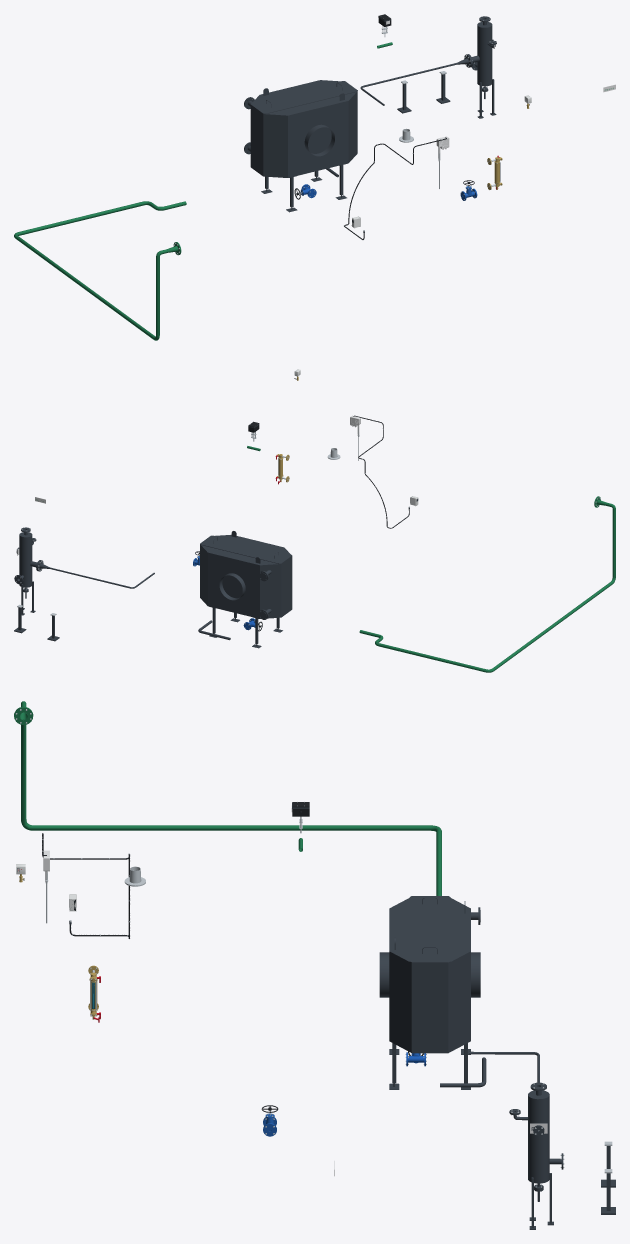
The picture shows the model from 3 angles, top to bottom: view 1: azimuth 30°, elevation 25°; view 2: azimuth 150°, elevation 25°; view 3: azimuth 270°, elevation 25°; orthographic projection. The views are drawn at different scales.
Parts seen in each view (by area): view 1: EQS2-3000 CAD 0, EQS2-3000 CAD 3, deaerator_feed / green, EQS2-3000 CAD 1, separator_fv8 / dark; view 2: EQS2-3000 CAD 0, EQS2-3000 CAD 3, deaerator_feed / green, EQS2-3000 CAD 2, separator_fv8 / dark; view 3: EQS2-3000 CAD 3, deaerator_feed / green, separator_fv8 / dark, EQS2-3000 CAD 0.
Part boxes in pixels (bbox=[...]): EQS2-3000 CAD 0: bbox=[261, 101, 348, 212]; EQS2-3000 CAD 3: bbox=[250, 80, 357, 175]; deaerator_feed / green: bbox=[14, 201, 186, 340]; EQS2-3000 CAD 1: bbox=[263, 114, 287, 177]; separator_fv8 / dark: bbox=[468, 16, 496, 118]; EQS2-3000 CAD 0: bbox=[208, 552, 282, 648]; EQS2-3000 CAD 3: bbox=[200, 531, 292, 617]; deaerator_feed / green: bbox=[359, 496, 615, 672]; EQS2-3000 CAD 2: bbox=[258, 564, 281, 619]; separator_fv8 / dark: bbox=[14, 527, 40, 615]; EQS2-3000 CAD 3: bbox=[389, 896, 470, 1053]; deaerator_feed / green: bbox=[14, 701, 441, 895]; separator_fv8 / dark: bbox=[509, 1082, 563, 1229]; EQS2-3000 CAD 0: bbox=[379, 952, 480, 1089].
Size of the model in its own units: 9.48 by 3.24 by 6.05.
